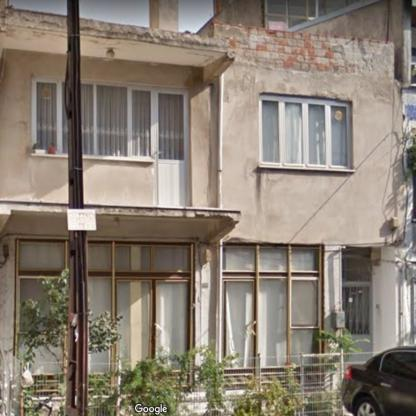door: (153, 87, 192, 206), (221, 278, 255, 374), (152, 278, 192, 356), (343, 284, 372, 360)
window: (88, 242, 193, 371), (222, 244, 320, 367), (259, 93, 352, 170), (81, 79, 152, 156), (17, 239, 67, 301), (30, 75, 68, 153), (264, 3, 350, 27)
